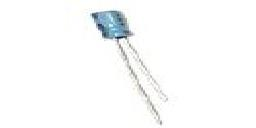Electrolytic Capacitor: (88, 4, 171, 128)
